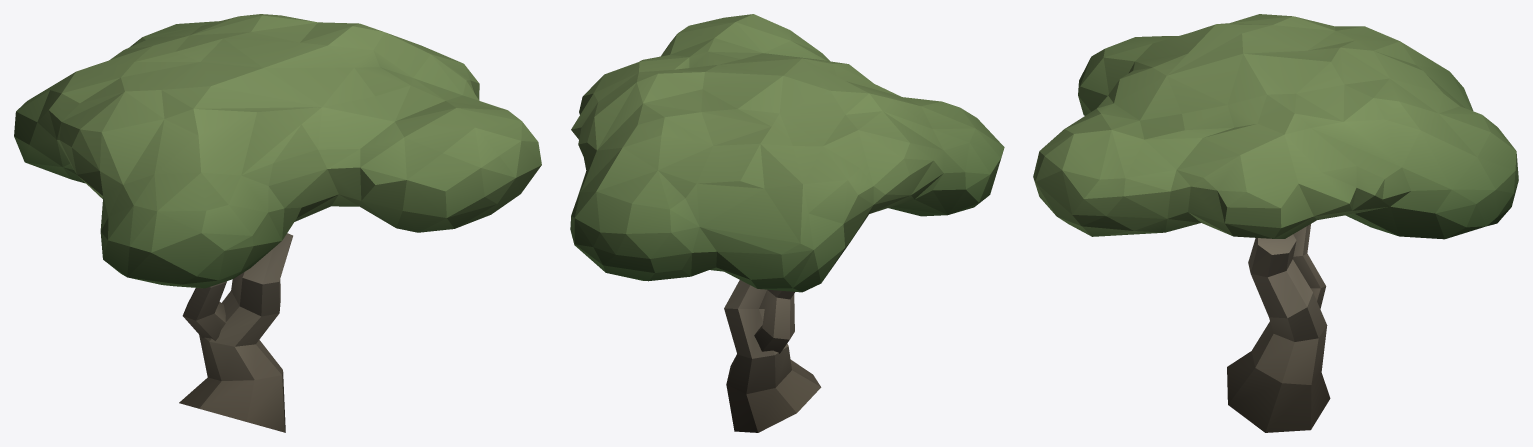
File: oliwka.glb
3 views of the same model, side by side, from view 1: azimuth 30°, elevation 25°; view 2: azimuth 150°, elevation 25°; view 3: azimuth 270°, elevation 25° (orthographic). The views are drawn at different scales.
Parts seen in each view (by area): view 1: oliwka_0; view 2: oliwka_0; view 3: oliwka_0.
Part boxes in pixels (<box>): oliwka_0: <box>14,14,541,432</box>; oliwka_0: <box>570,14,1004,432</box>; oliwka_0: <box>1033,14,1518,432</box>.
Bounding box in the file's own units: 1.43 × 1.28 × 1.54.
